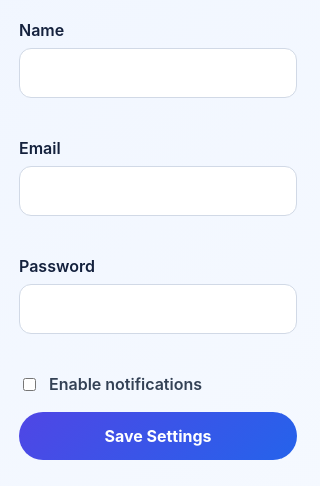
Test: SettingsForm › rejects invalid email
Step 1. Type "not-an-email" into the field labelled "Email" → {"x": 158, "y": 191}, box x1=19 y1=166 x2=297 y2=216
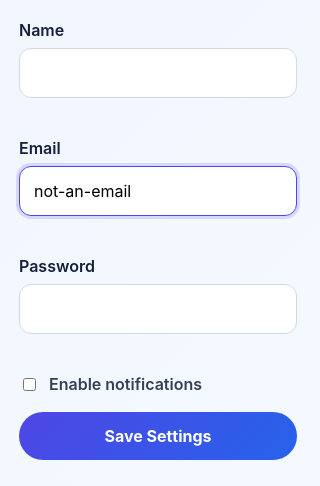
Step 2. Click the button "Save Settings" → {"x": 158, "y": 436}, box x1=19 y1=412 x2=297 y2=460
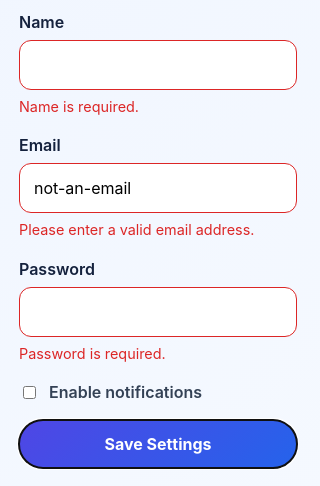
Check: the text "Please enter a valid email address." is shown, box x1=19 y1=221 x2=254 y2=238
